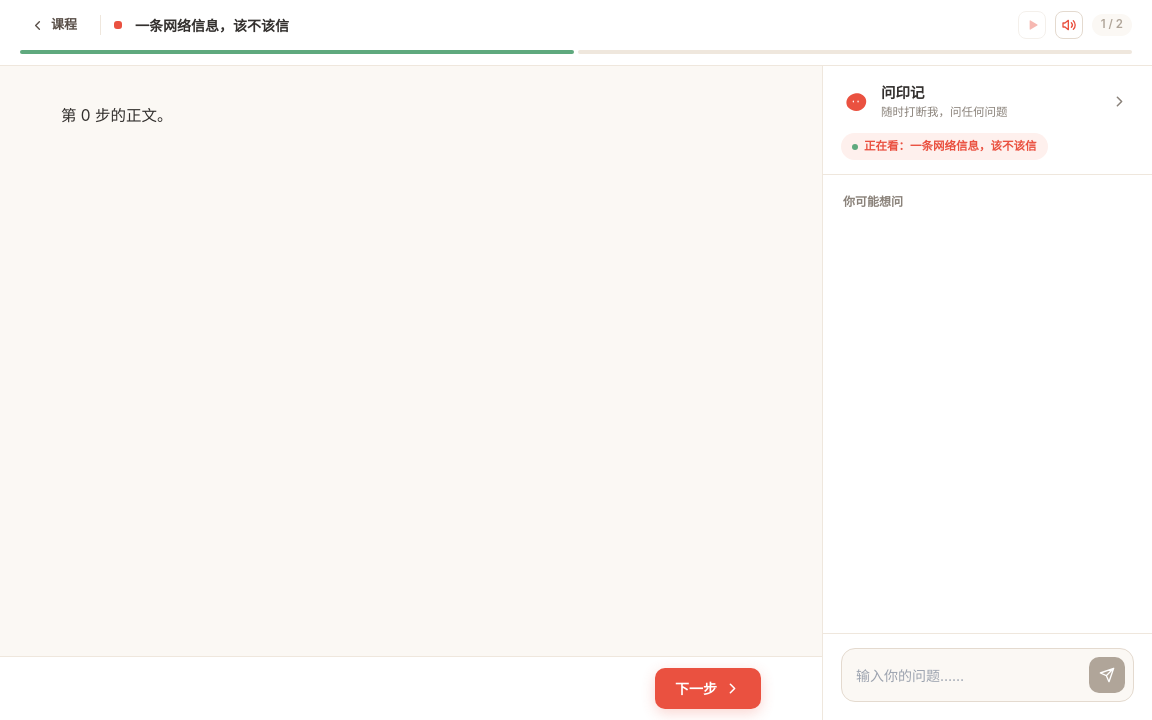
Test: CoursePlayer Space state machine + click-to-continue across steps (Task 7) › clicking the content pane crosses into the next step once the page is done, saving progress
Click the element with test id "segment-timeline".
click(117, 116)  # box x1=61 y1=106 x2=172 y2=125
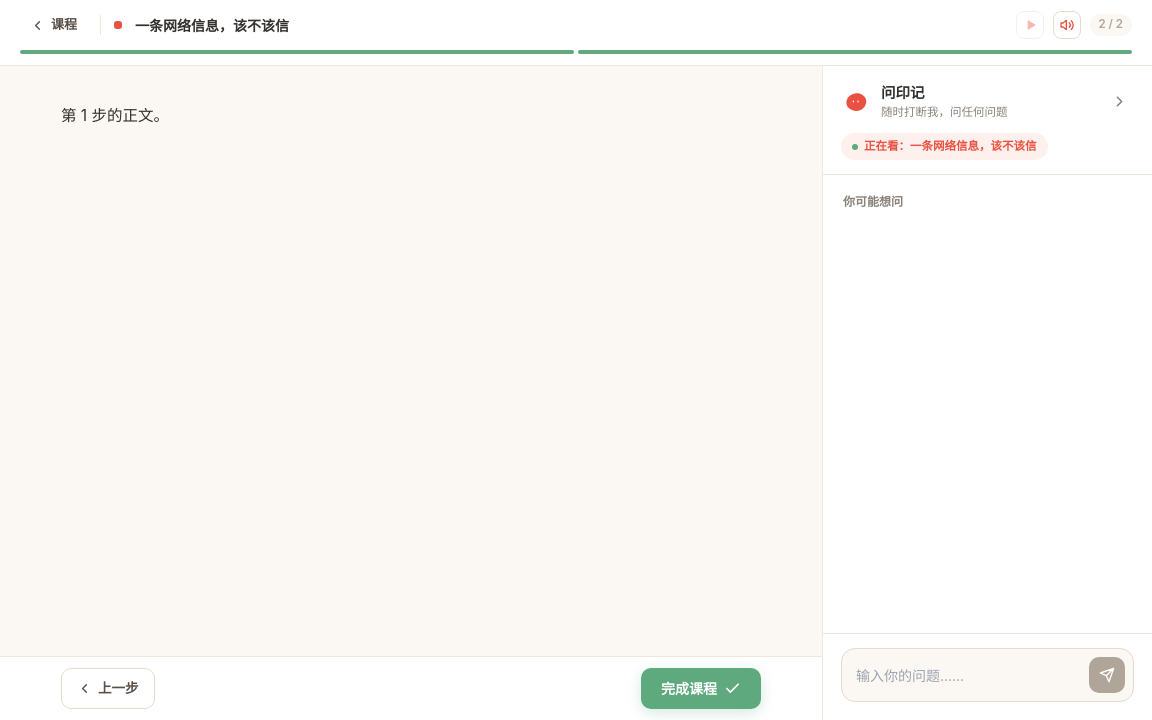
Result: the text "第 1 步的正文。" is shown at x1=61 y1=106 x2=169 y2=125
